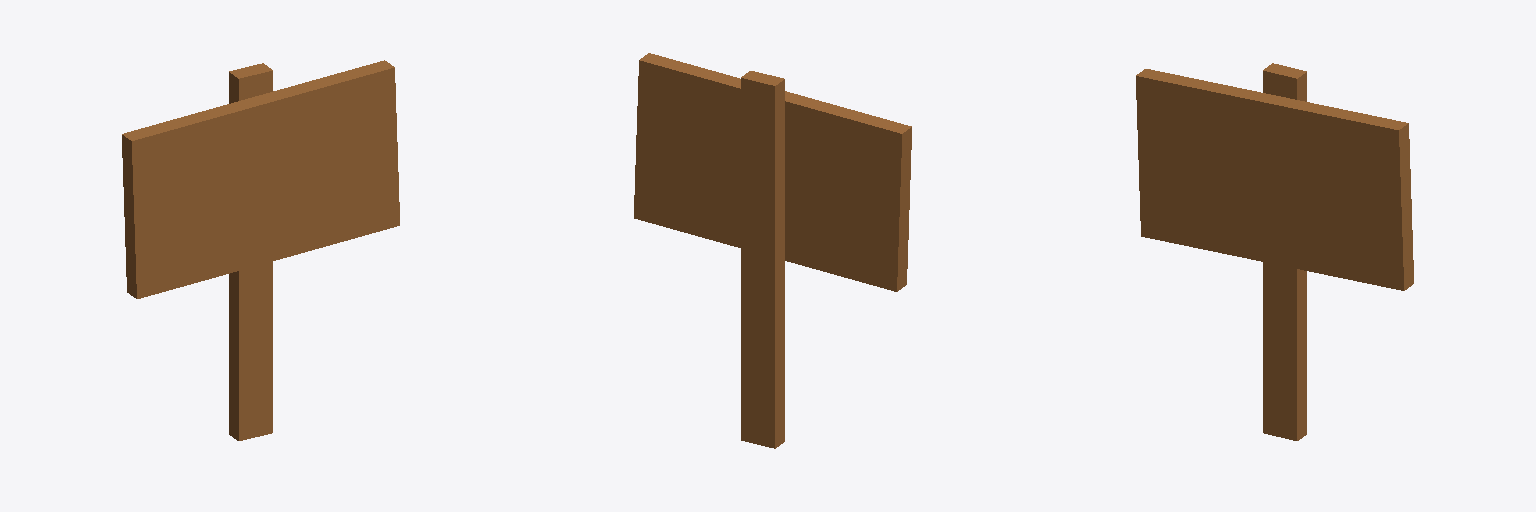
File: sign1.obj
3 renders of one model, left to right at view 1: azimuth 30°, elevation 25°; view 2: azimuth 150°, elevation 25°; view 3: azimuth 330°, elevation 25°, orthographic.
Parts seen in each view (by area): view 1: Object.2, Object.1; view 2: Object.2, Object.1; view 3: Object.2, Object.1.
Boxes of the visible parts, x1,y1,x2,y2 form: Object.2: [122, 60, 399, 298]; Object.1: [229, 63, 272, 440]; Object.2: [634, 53, 911, 291]; Object.1: [741, 71, 784, 448]; Object.2: [1136, 69, 1413, 290]; Object.1: [1263, 63, 1306, 440].
Bounding box in the file's own units: 0.7749 × 1 × 0.1.